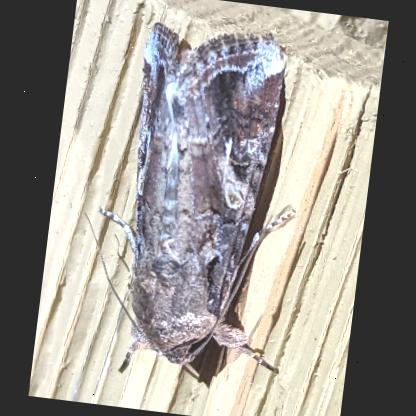Fall Armyworm Moth: (63, 7, 322, 394)
